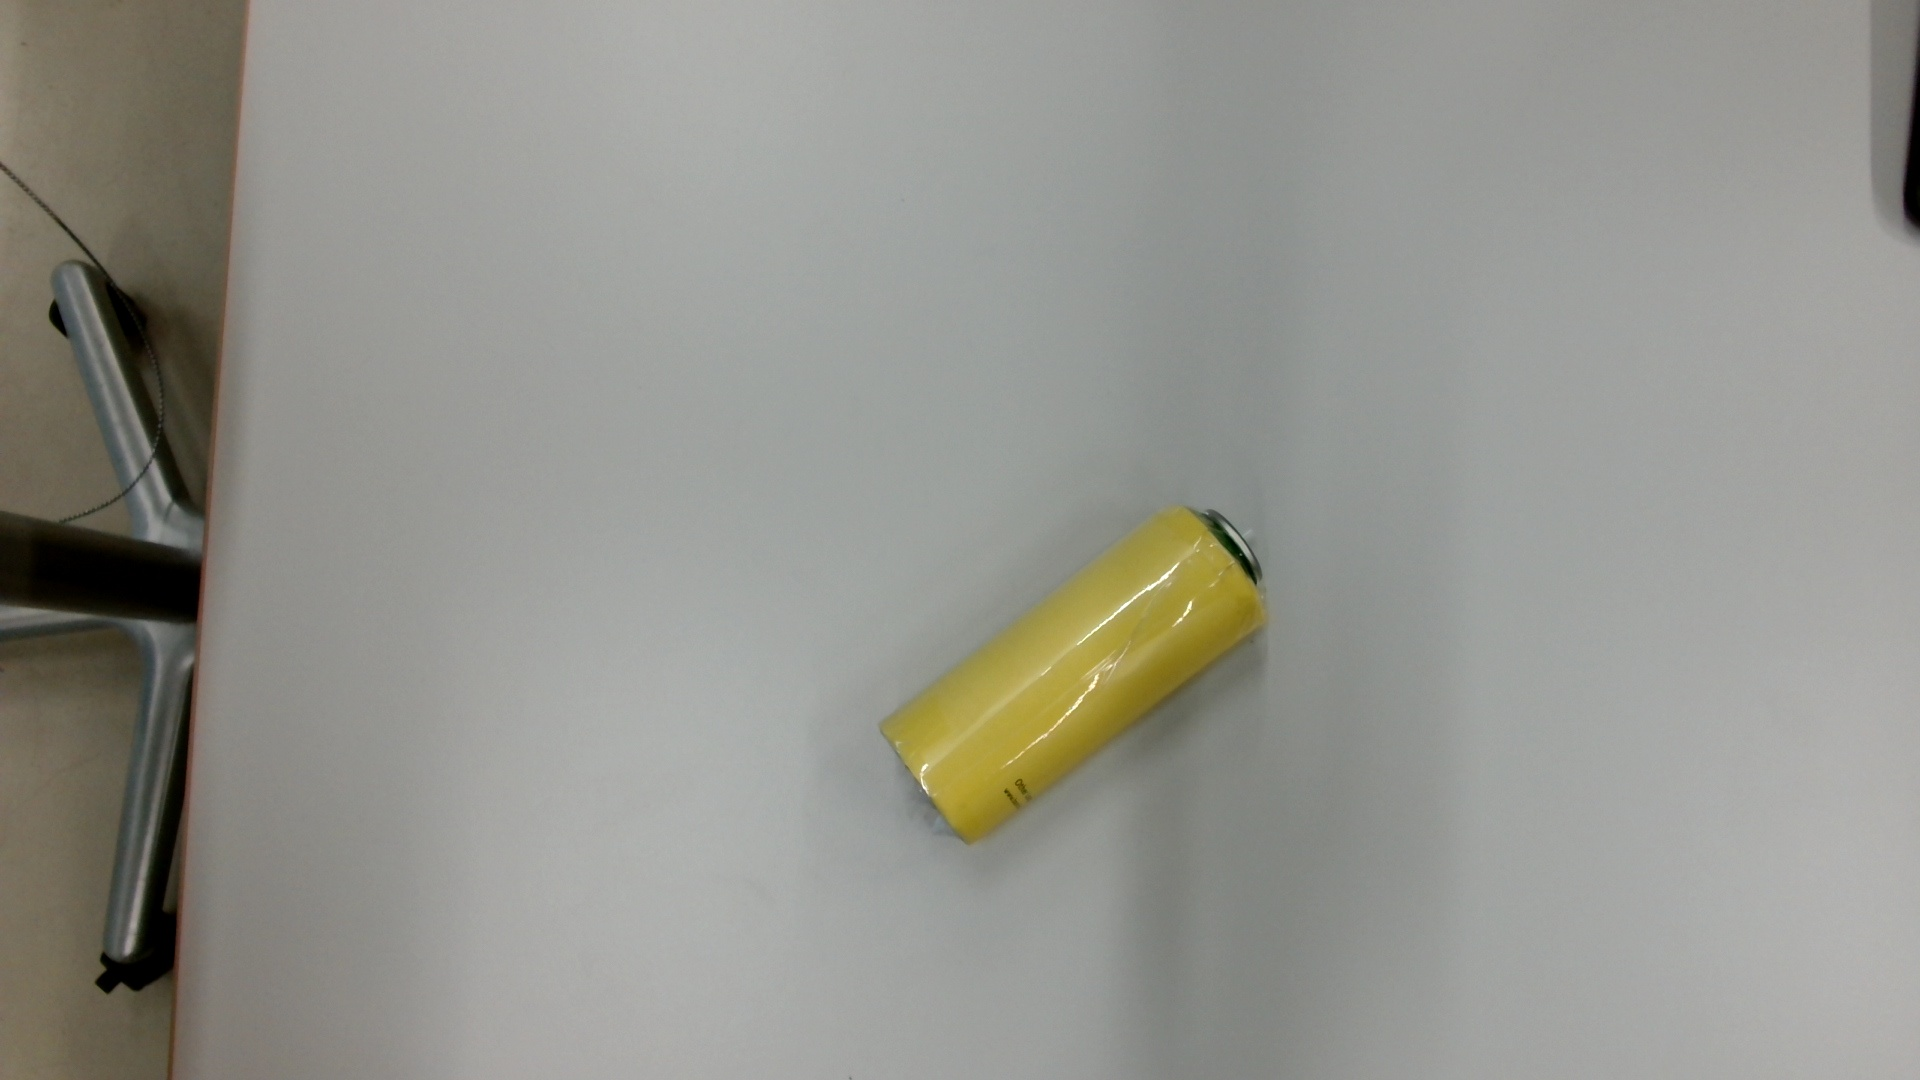Cylinder: (870, 497, 1286, 860)
